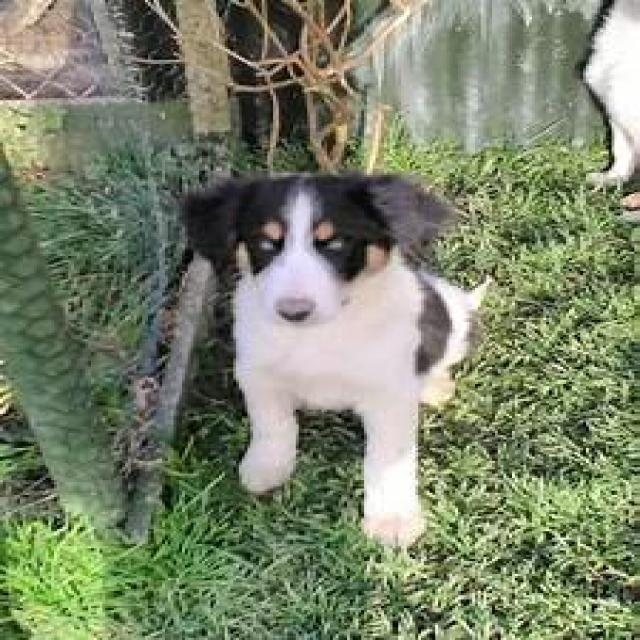FIL: (172, 168, 490, 553)
